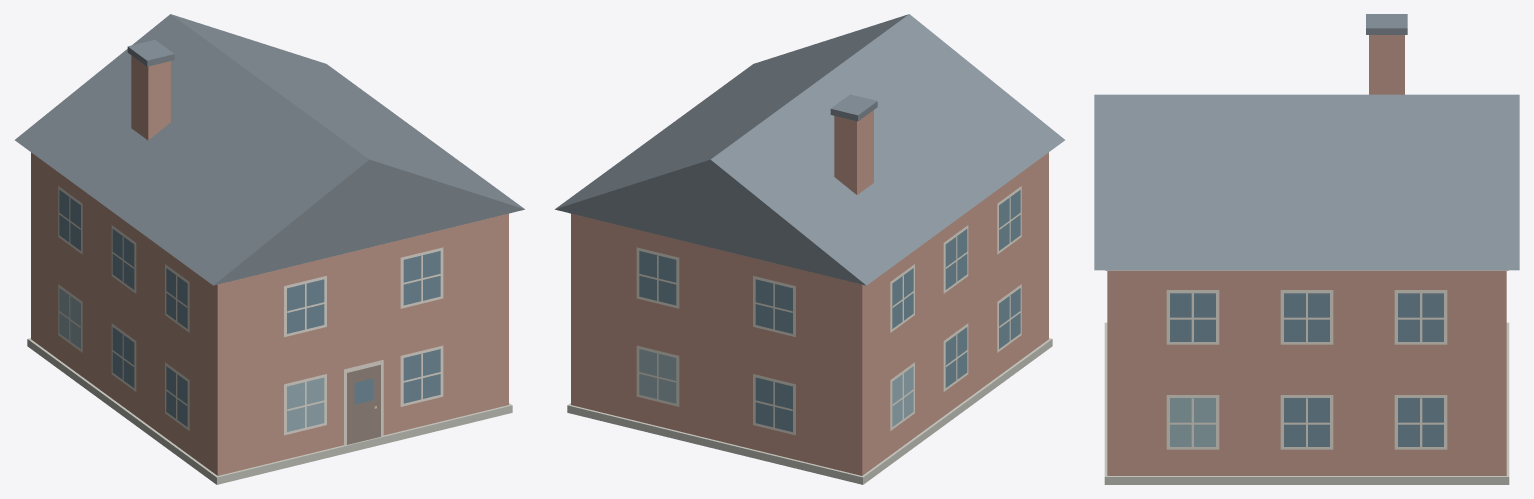
Rendered from house-two-storey-brick.glb.
The picture shows the model from 3 angles, left to right: view 1: azimuth 30°, elevation 25°; view 2: azimuth 150°, elevation 25°; view 3: azimuth 270°, elevation 25°; orthographic projection. The views are drawn at different scales.
Visible parts, largest first — view 1: house-two-storey-brick; view 2: house-two-storey-brick; view 3: house-two-storey-brick.
Boxes of the visible parts, x1,y1,x2,y2 form: house-two-storey-brick: (15,14,524,484); house-two-storey-brick: (555,14,1064,484); house-two-storey-brick: (1094,14,1519,484).
Size of the model in its own units: 9.65 by 9.51 by 10.65.
